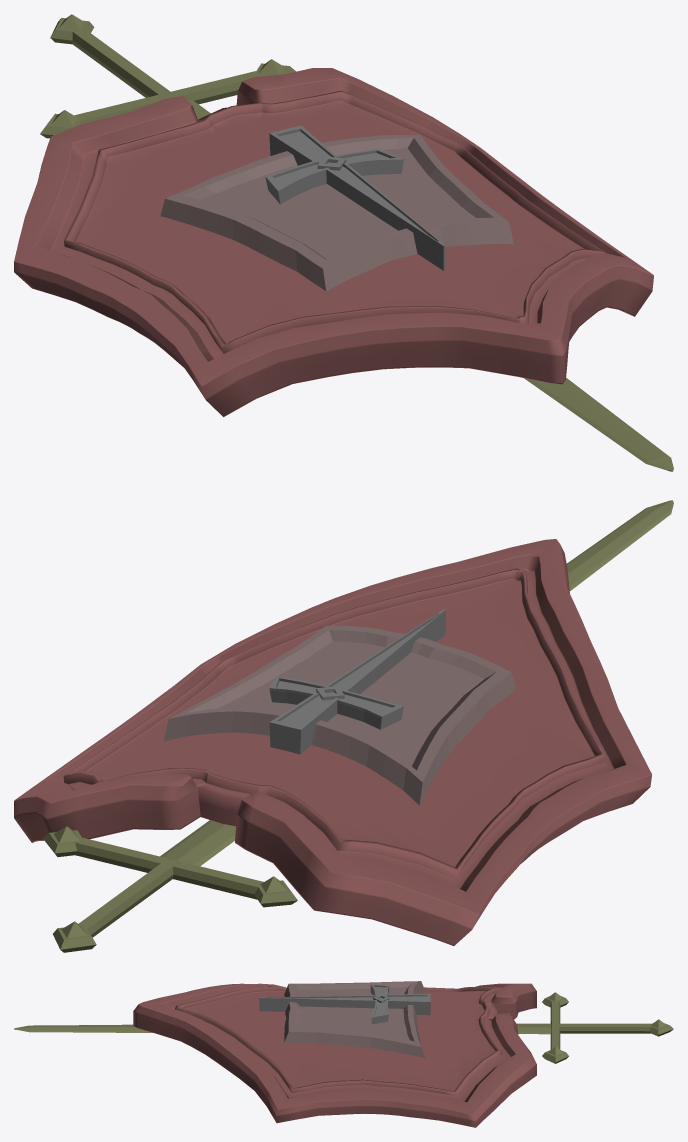
The model's file is sheild_3_curved.fbx.
The picture shows the model from 3 angles, top to bottom: view 1: azimuth 30°, elevation 25°; view 2: azimuth 150°, elevation 25°; view 3: azimuth 270°, elevation 25°; orthographic projection. The views are drawn at different scales.
Visible parts, largest first — view 1: pCube14, pCube15, pCube23, pTorus2; view 2: pCube14, pCube15, pCube23, pTorus2; view 3: pCube14, pCube15, pCube23, pTorus2.
Part boxes in pixels (bbox=[...]): pCube14: bbox=[14, 68, 653, 417]; pCube15: bbox=[160, 135, 513, 291]; pCube23: bbox=[40, 14, 673, 471]; pTorus2: bbox=[265, 125, 445, 270]; pCube14: bbox=[14, 539, 651, 945]; pCube15: bbox=[163, 625, 516, 805]; pCube23: bbox=[42, 500, 673, 952]; pTorus2: bbox=[269, 609, 445, 754]; pCube14: bbox=[133, 983, 536, 1127]; pCube15: bbox=[284, 981, 425, 1057]; pCube23: bbox=[14, 992, 673, 1063]; pTorus2: bbox=[259, 984, 430, 1024].
Size of the model in its own units: 20.84 by 5.96 by 47.6.
